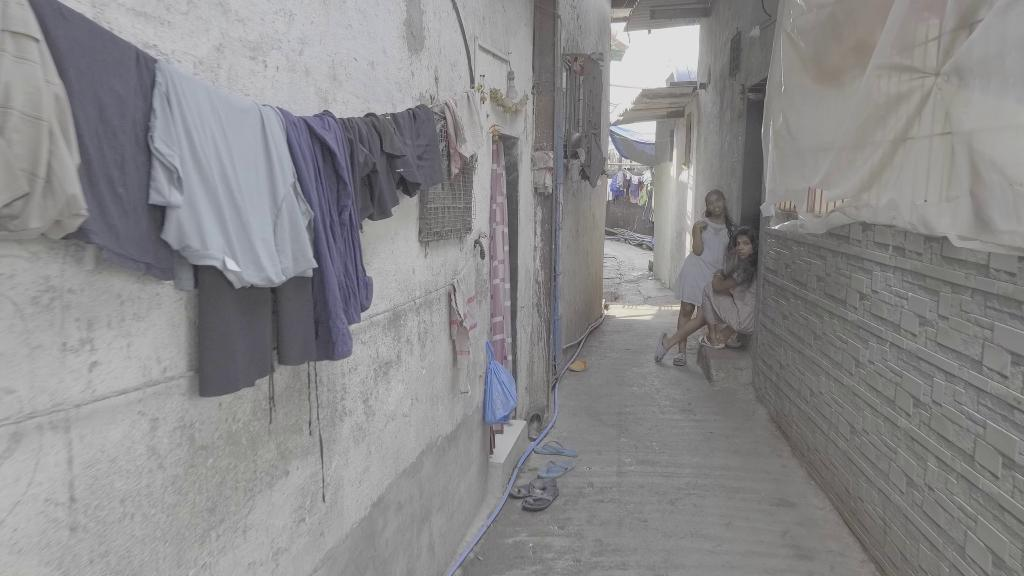garbage: (480, 341, 524, 435)
